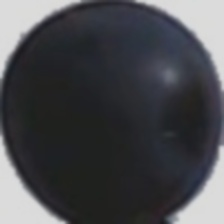grapes: (44, 50, 198, 214)
